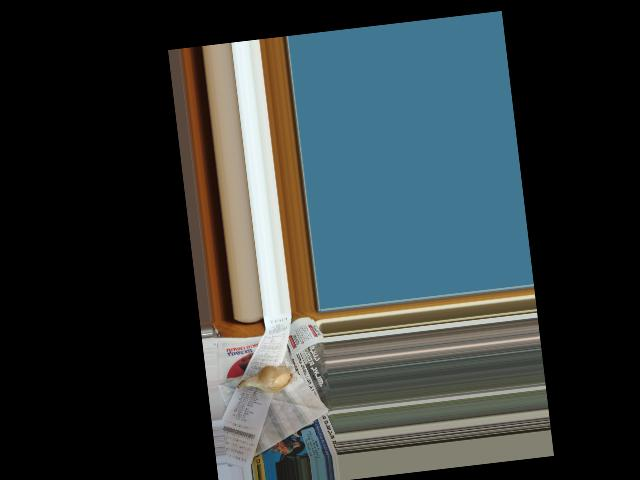onion: (242, 365, 293, 395)
